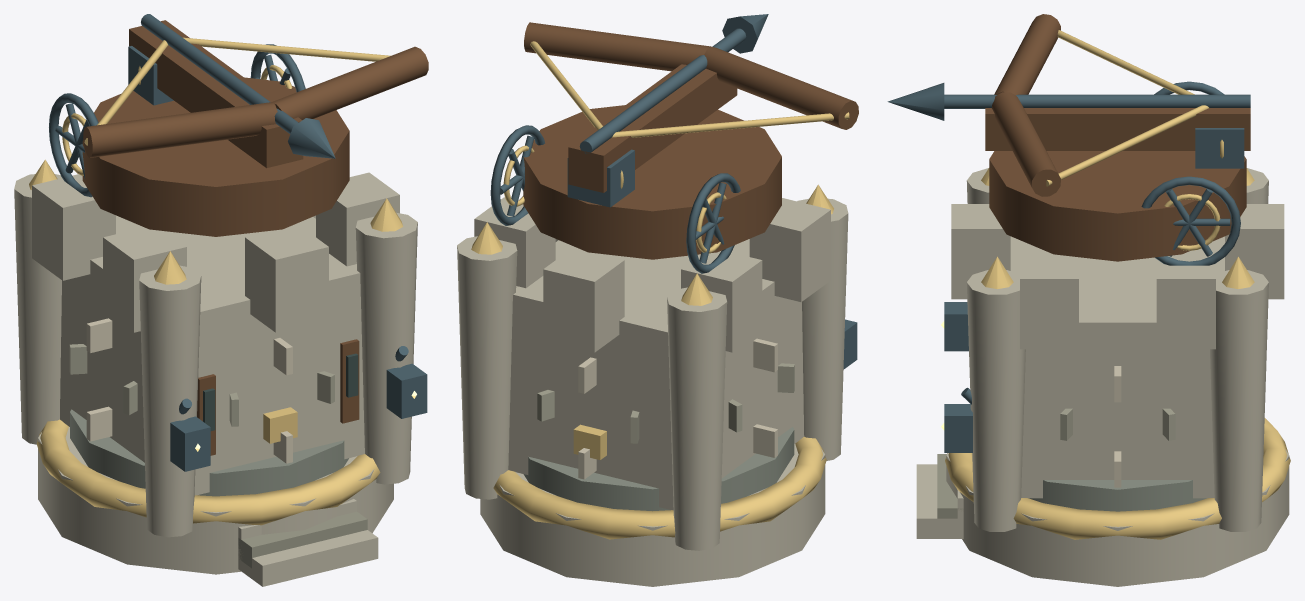
The model's file is tower-ballista-2-base.glb.
3 renders of one model, left to right at view 1: azimuth 30°, elevation 25°; view 2: azimuth 150°, elevation 25°; view 3: azimuth 270°, elevation 25°, orthographic. The views are drawn at different scales.
Parts seen in each view (by area): view 1: Foundation, Turret, ballista-L2-base; view 2: Foundation, Turret, ballista-L2-base; view 3: Foundation, Turret, ballista-L2-base.
Part boxes in pixels (box(x1,y1,x2,y2)): Foundation: box(14, 159, 427, 586); Turret: box(49, 14, 428, 236); ballista-L2-base: box(38, 409, 393, 574); Foundation: box(457, 184, 857, 550); Turret: box(490, 14, 858, 273); ballista-L2-base: box(480, 427, 825, 586); Foundation: box(916, 168, 1290, 539); Turret: box(887, 14, 1250, 265); ballista-L2-base: box(946, 449, 1289, 586).
Size of the model in its own units: 1.83 by 2.33 by 1.98.
